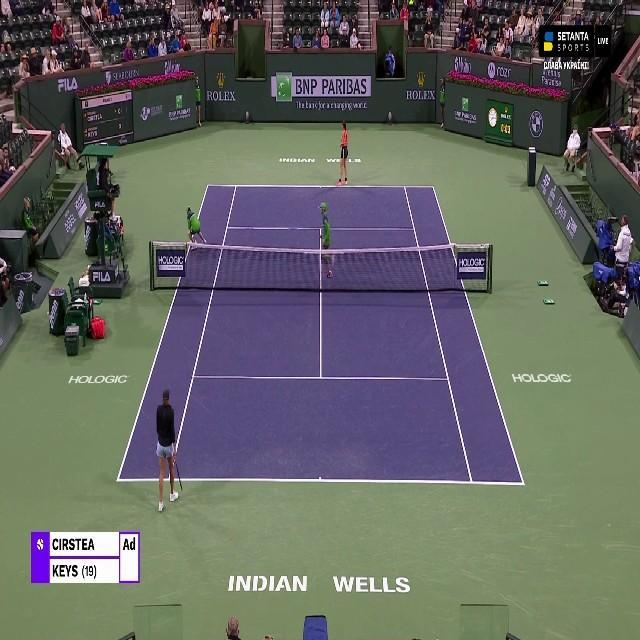left side: (404, 187, 524, 485), (117, 185, 236, 481)
player: (154, 386, 181, 513), (336, 120, 350, 186)
